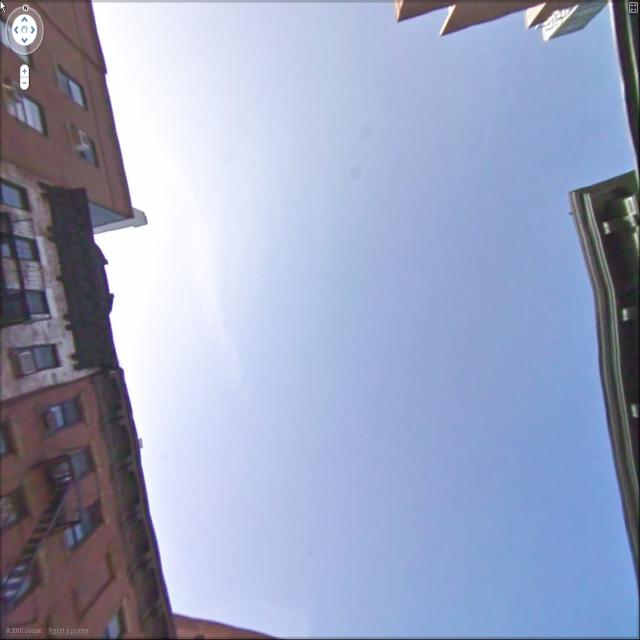b_1: (1, 4, 158, 640), (562, 4, 636, 608)
